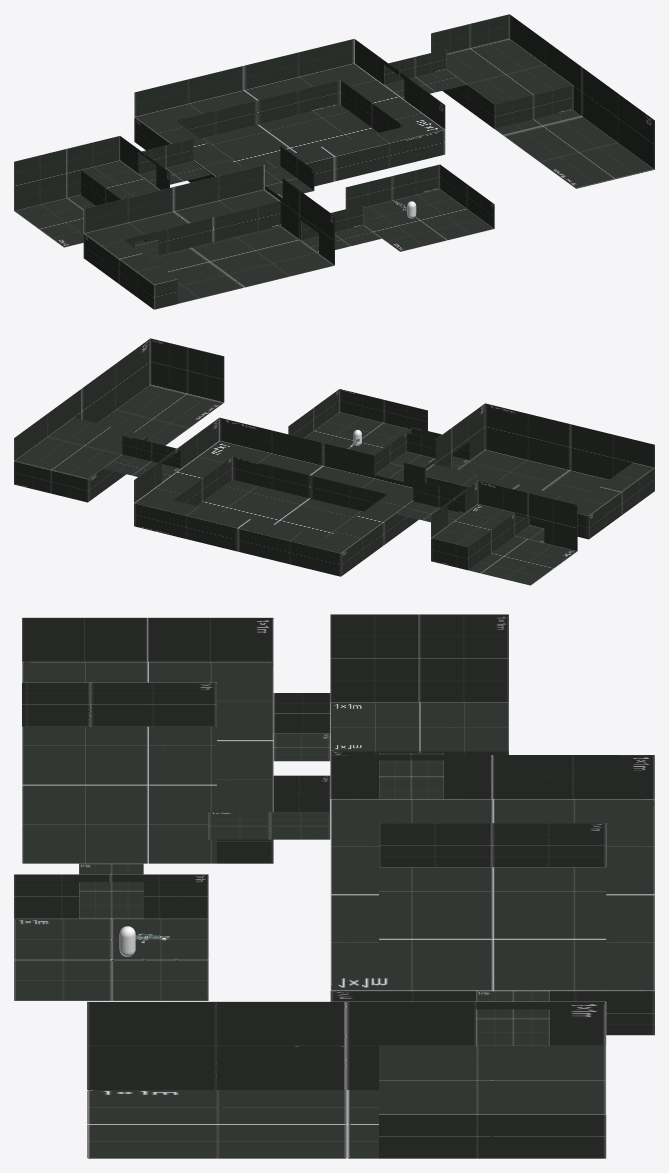
The model's file is main_level.gltf.
The picture shows the model from 3 angles, top to bottom: view 1: azimuth 30°, elevation 25°; view 2: azimuth 150°, elevation 25°; view 3: azimuth 270°, elevation 25°; orthographic projection. The views are drawn at different scales.
Visible parts, largest first — view 1: Room2, Overhang33, Overhang5, Overhang43, Overhang22; view 2: Room2, Overhang33, Overhang43, Overhang5, Overhang22; view 3: Room2, Overhang33, Overhang43, Overhang5, Overhang22.
Part boxes in pixels (x1,y1,x2,y2): Room2: (14, 14, 654, 303); Overhang33: (134, 63, 445, 186); Overhang5: (83, 189, 280, 309); Overhang43: (442, 39, 573, 128); Overhang22: (81, 160, 160, 205); Room2: (14, 338, 654, 585); Overhang33: (134, 441, 418, 576); Overhang43: (14, 417, 147, 502); Overhang5: (426, 462, 654, 539); Overhang22: (431, 504, 514, 570); Room2: (14, 614, 654, 1158); Overhang33: (330, 799, 654, 1035); Overhang43: (379, 1046, 606, 1158); Overhang5: (22, 662, 273, 863); Overhang22: (330, 716, 508, 754).
Bounding box in the file's own units: 66.5 × 6.02 × 39.5.
Materials: 3 (2 with a texture image).
